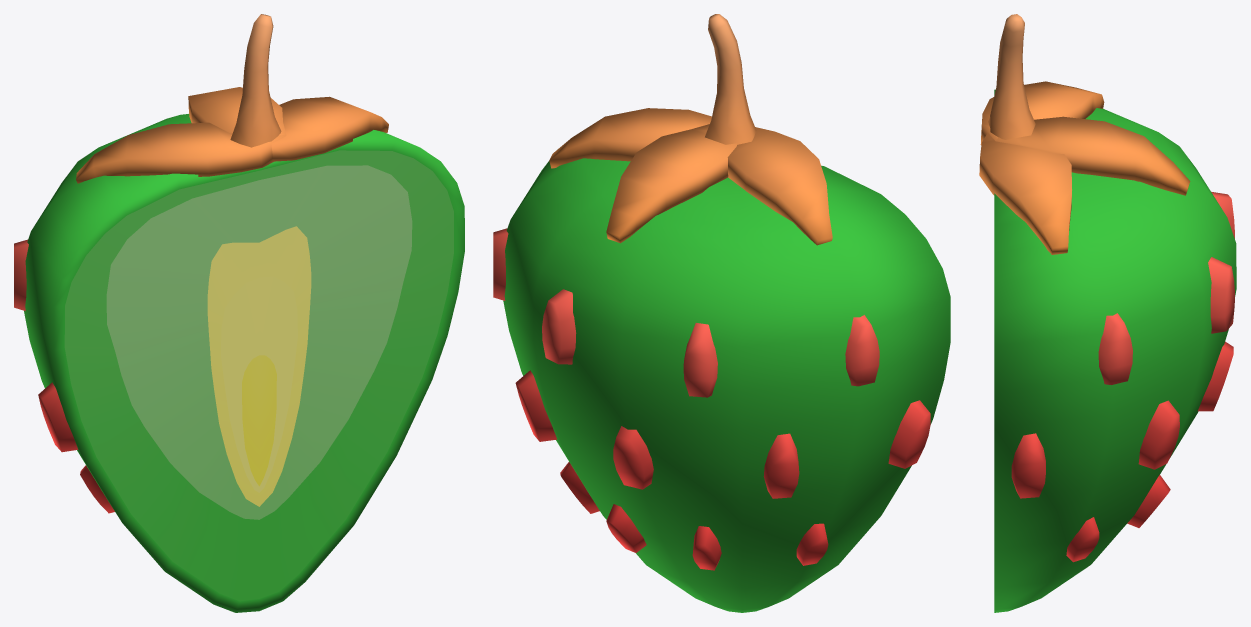
File: Half_the_strawberries.fbx
3 renders of one model, left to right at view 1: azimuth 30°, elevation 25°; view 2: azimuth 150°, elevation 25°; view 3: azimuth 270°, elevation 25°, orthographic. The views are drawn at different scales.
Parts seen in each view (by area): view 1: Half_the_strawberries; view 2: Half_the_strawberries; view 3: Half_the_strawberries.
Boxes of the visible parts, left/top/right/bottom form: Half_the_strawberries: left=14, top=14, right=464, bottom=612; Half_the_strawberries: left=493, top=14, right=950, bottom=612; Half_the_strawberries: left=979, top=14, right=1236, bottom=612.
Size of the model in its own units: 56.14 by 76.4 by 29.81.
